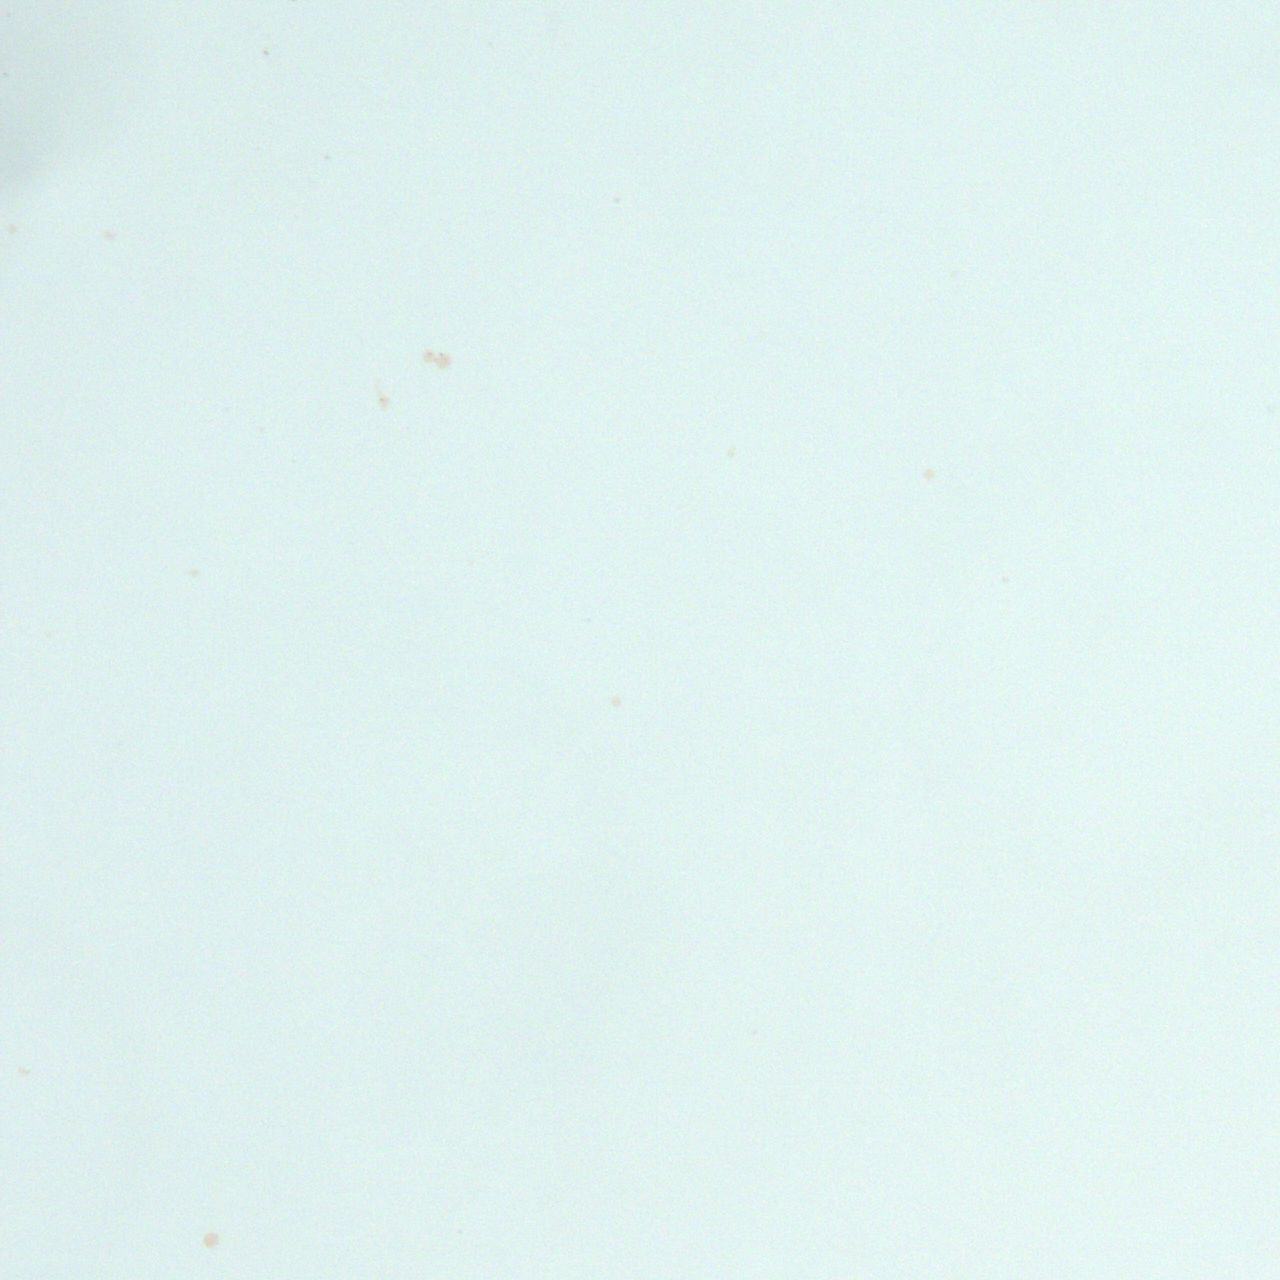dust: (420, 345, 456, 373), (202, 1232, 217, 1247), (610, 692, 622, 708), (377, 393, 388, 408), (15, 1065, 29, 1076), (922, 468, 935, 478), (104, 230, 116, 237), (263, 50, 270, 55)
